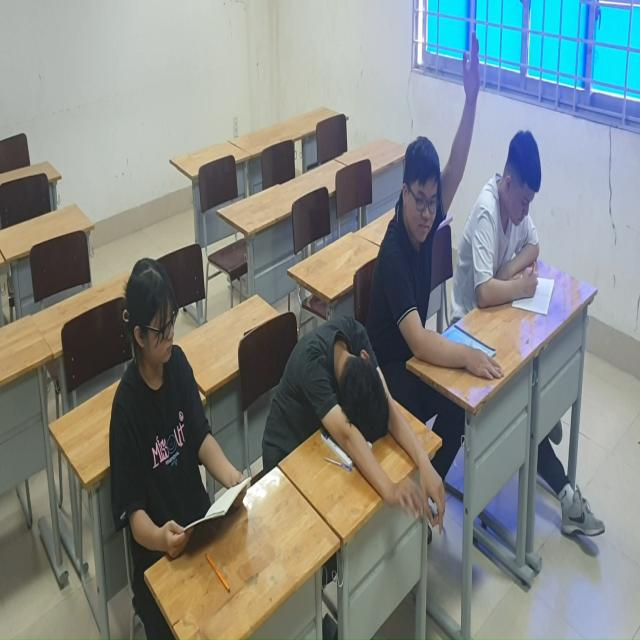raise_hand: (374, 30, 486, 321)
read: (105, 254, 256, 567), (469, 122, 561, 332)
sleep: (269, 308, 448, 538)
